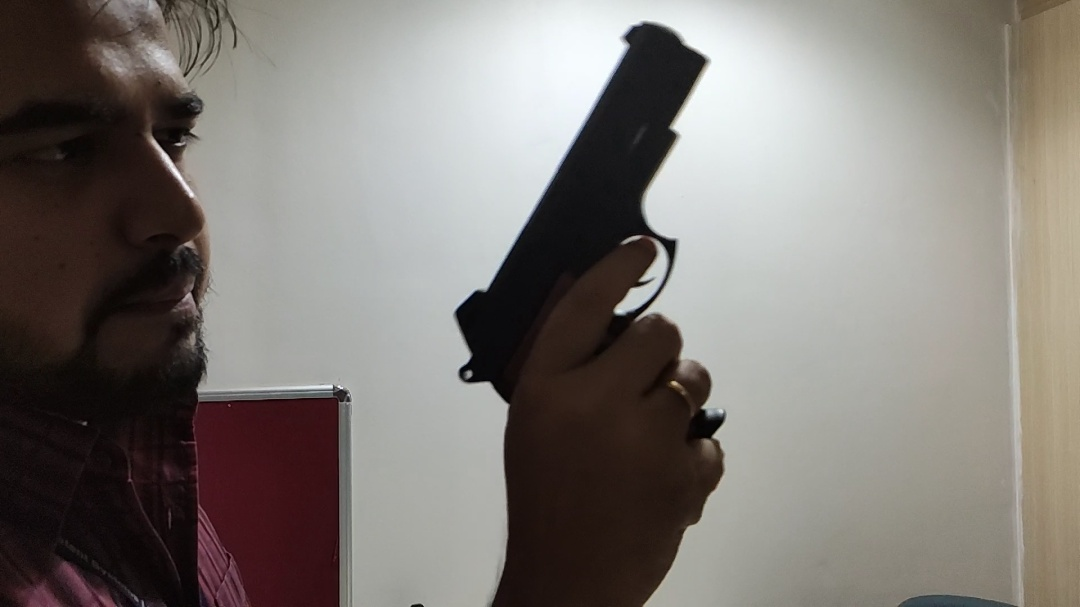gun: (450, 20, 731, 447)
